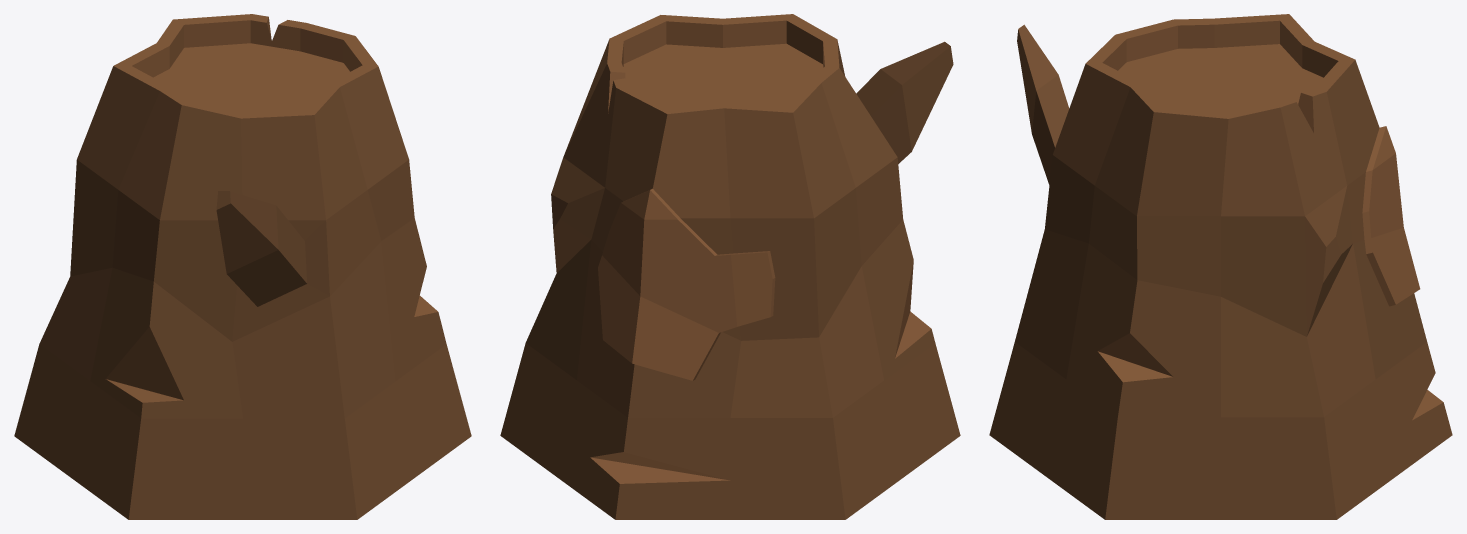
File: Tree_Trunk_5_Light_Brown.fbx
The picture shows the model from 3 angles, left to right: view 1: azimuth 30°, elevation 25°; view 2: azimuth 150°, elevation 25°; view 3: azimuth 270°, elevation 25°; orthographic projection.
Parts seen in each view (by area): view 1: Tree_Trunk_5_Light_Brown_Part_1, Tree_Trunk_5_Light_Brown_Part_2; view 2: Tree_Trunk_5_Light_Brown_Part_1, Tree_Trunk_5_Light_Brown_Part_2; view 3: Tree_Trunk_5_Light_Brown_Part_1, Tree_Trunk_5_Light_Brown_Part_2.
Part boxes in pixels (x1,y1,x2,y2): Tree_Trunk_5_Light_Brown_Part_1: (14,66,471,519); Tree_Trunk_5_Light_Brown_Part_2: (106,14,437,402); Tree_Trunk_5_Light_Brown_Part_1: (500,39,960,519); Tree_Trunk_5_Light_Brown_Part_2: (590,14,931,483); Tree_Trunk_5_Light_Brown_Part_1: (989,24,1452,519); Tree_Trunk_5_Light_Brown_Part_2: (1085,14,1443,420).
Size of the model in its own units: 117 by 120 by 135.
